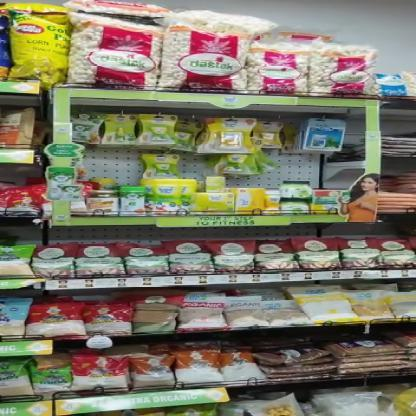SUGAR FREE GOLD 500 PELLET: (198, 117, 258, 153), (254, 122, 286, 146)
SUGAR FREE GOLD POWDER 100GM: (264, 188, 282, 216)
SUGAR FREE NATURA 500 PELLET: (137, 114, 180, 145), (138, 154, 183, 178), (172, 123, 204, 153), (216, 153, 258, 175)
SUGAR FREE NATURA DIET SUGAR 80GM: (145, 178, 184, 214), (178, 178, 198, 214)
SUGAR FREE NATURA SACHET 50: (188, 192, 236, 216)
SUGAR FREE NATURA SWEET DROPS: (103, 115, 138, 148)
SUGAR FREE_GRN_ POWDER_CONC_100G: (70, 110, 103, 144)
